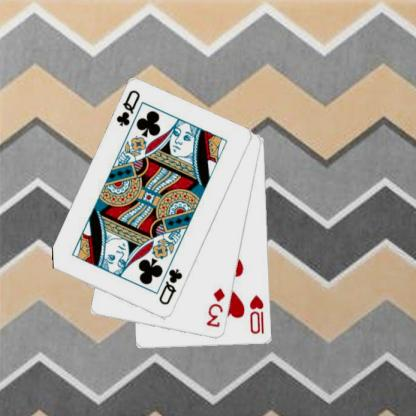10H: (247, 293, 266, 335)
3D: (204, 285, 226, 329)
QC: (156, 266, 184, 307), (114, 88, 142, 128)
